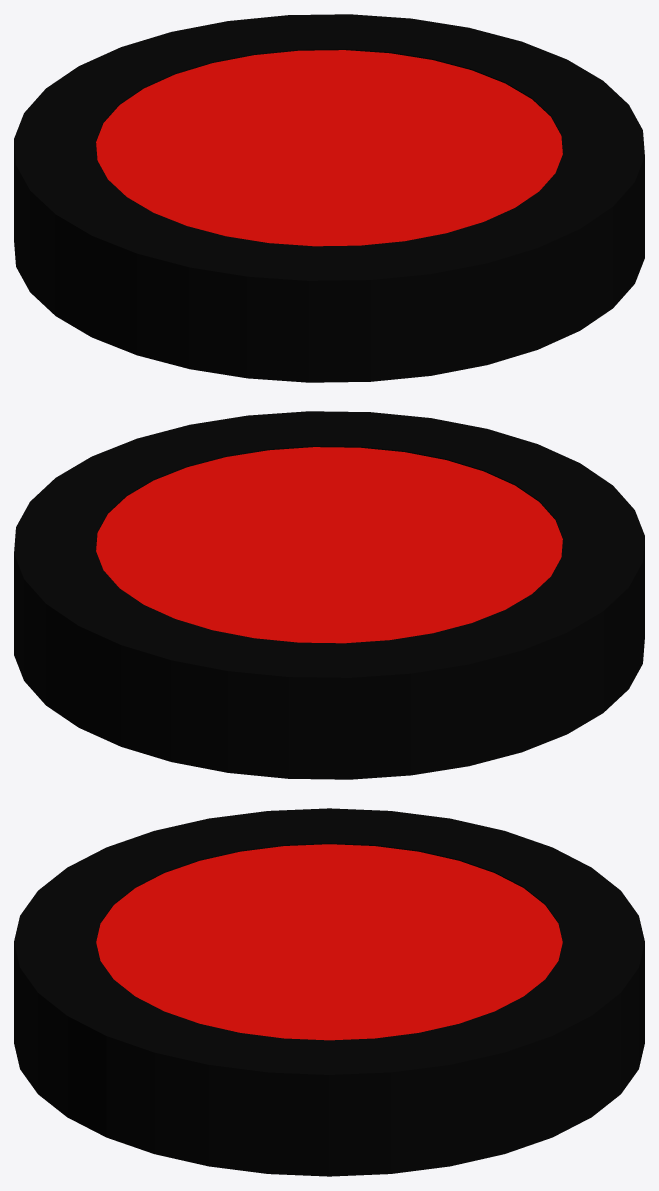
Rendered from Enemy.fbx.
3 renders of one model, top to bottom at view 1: azimuth 30°, elevation 25°; view 2: azimuth 150°, elevation 25°; view 3: azimuth 270°, elevation 25°, orthographic.
Visible parts, largest first — view 1: Cylinder.001; view 2: Cylinder.001; view 3: Cylinder.001.
Part boxes in pixels (x1=…): Cylinder.001: x1=14, y1=14, x2=644, y2=382; Cylinder.001: x1=14, y1=411, x2=644, y2=779; Cylinder.001: x1=14, y1=808, x2=644, y2=1176.
Size of the model in its own units: 236 by 43.01 by 236.
